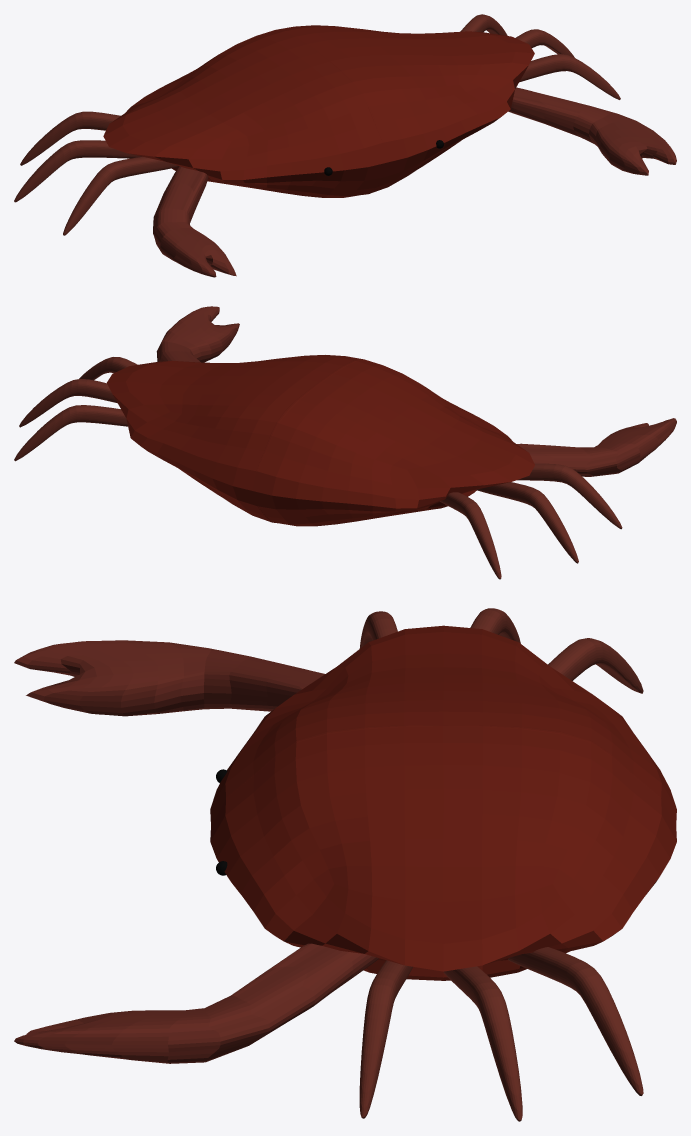
Rendered from crab.obj.
3 renders of one model, top to bottom at view 1: azimuth 30°, elevation 25°; view 2: azimuth 150°, elevation 25°; view 3: azimuth 270°, elevation 25°, orthographic. The views are drawn at different scales.
Parts seen in each view (by area): view 1: Cube, Cube.001, Cube.002, Cube.004, Cube.003, Cube.006, Cube.005, Cube.007; view 2: Cube, Cube.001, Cube.007, Cube.004, Cube.002, Cube.005, Cube.006, Cube.003; view 3: Cube, Cube.001, Cube.007, Cube.005, Cube.003, Cube.006, Cube.004, Cube.002.
Boxes of the visible parts, box(x1,y1,x2,y2) form: Cube: box(103, 25, 534, 197); Cube.001: box(153, 87, 676, 277); Cube.002: box(63, 157, 178, 235); Cube.004: box(14, 140, 142, 202); Cube.003: box(519, 54, 620, 99); Cube.006: box(20, 111, 120, 165); Cube.005: box(515, 29, 574, 57); Cube.007: box(460, 14, 507, 35); Cube: box(107, 355, 534, 526); Cube.001: box(156, 306, 676, 476); Cube.007: box(14, 405, 127, 461); Cube.004: box(476, 482, 578, 563); Cube.002: box(517, 463, 622, 529); Cube.005: box(19, 379, 117, 427); Cube.006: box(440, 492, 501, 579); Cube.003: box(79, 357, 137, 380); Cube: box(210, 625, 676, 980); Cube.001: box(14, 640, 378, 1063); Cube.007: box(508, 947, 643, 1095); Cube.005: box(443, 966, 522, 1121); Cube.003: box(359, 960, 412, 1118); Cube.006: box(548, 638, 643, 693); Cube.004: box(470, 608, 520, 643); Cube.002: box(359, 611, 397, 648).
Bounding box in the file's own units: 7 × 1.34 × 4.23.
